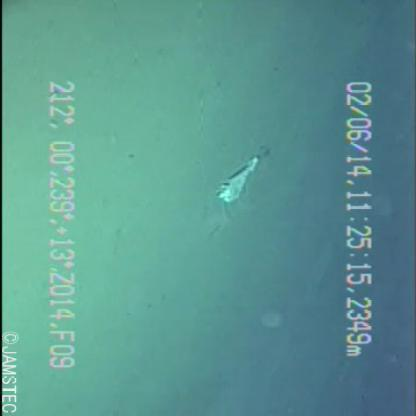Rác: (202, 141, 286, 213)
